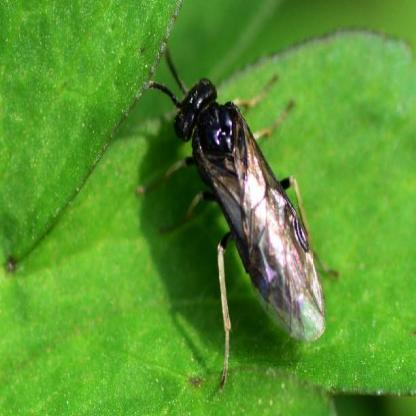sawfly: (137, 36, 340, 392)
